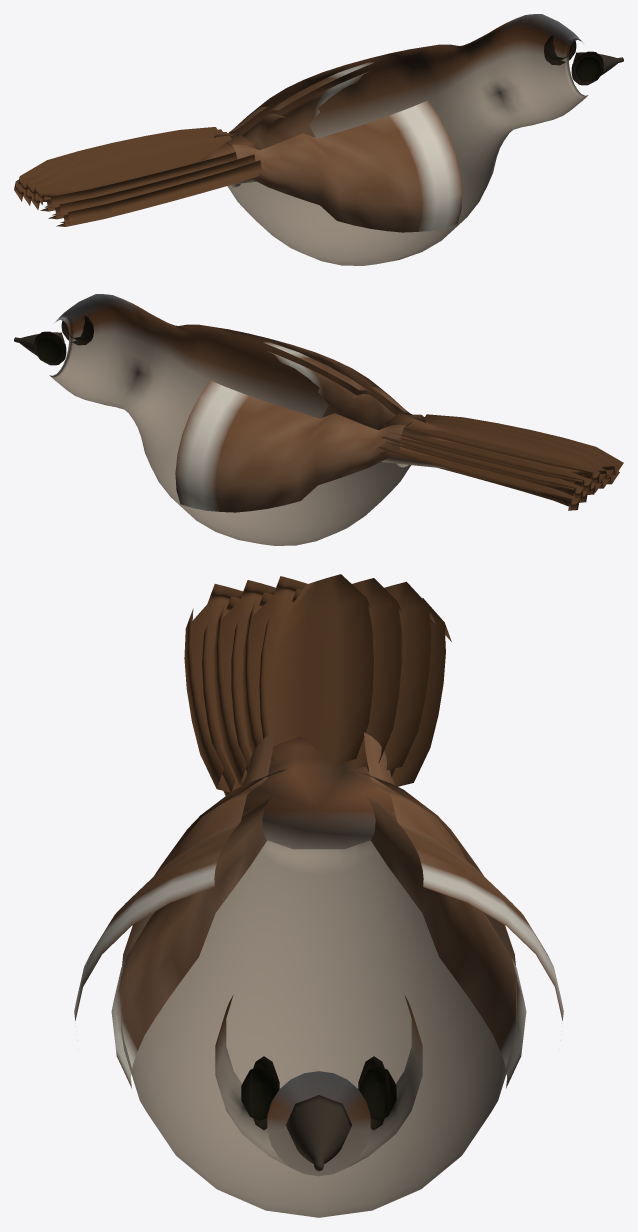
Rendered from SM_Bird_sparrow_closed.glb.
The picture shows the model from 3 angles, top to bottom: view 1: azimuth 30°, elevation 25°; view 2: azimuth 150°, elevation 25°; view 3: azimuth 270°, elevation 25°; orthographic projection. The views are drawn at different scales.
Parts seen in each view (by area): view 1: SM_Bird_sparrow_closed; view 2: SM_Bird_sparrow_closed; view 3: SM_Bird_sparrow_closed.
Boxes of the visible parts, box(x1,y1,x2,y2) form: SM_Bird_sparrow_closed: box(14, 14, 623, 265); SM_Bird_sparrow_closed: box(14, 294, 623, 545); SM_Bird_sparrow_closed: box(74, 574, 563, 1217).
Bounding box in the file's own units: 0.1703 × 0.0551 × 0.062.
